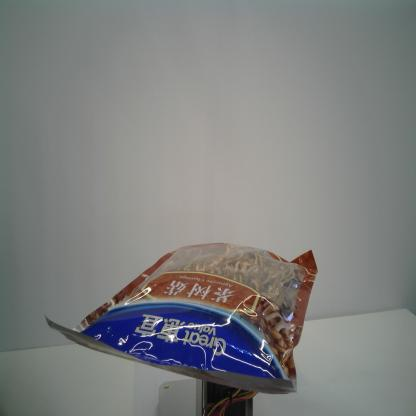Dried Food: (43, 242, 319, 395)
